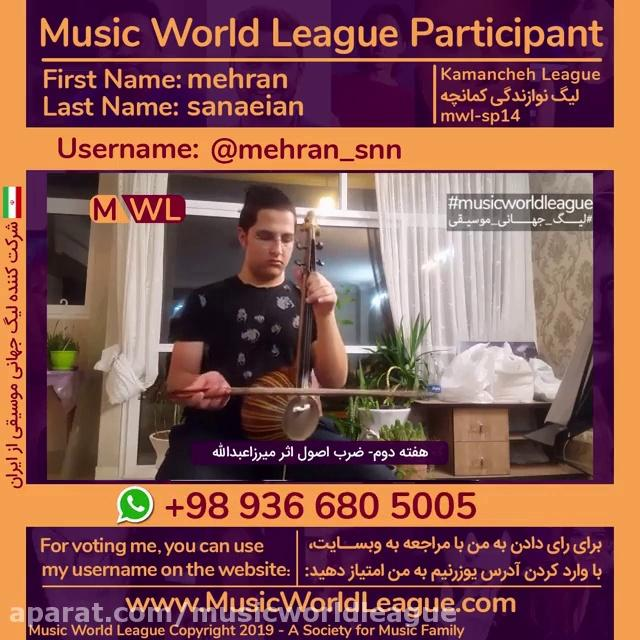Santur: (230, 204, 328, 448)
